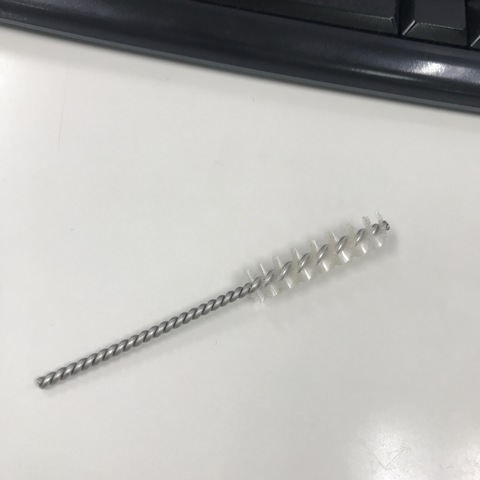Twist Brush-B: (37, 209, 388, 389)
